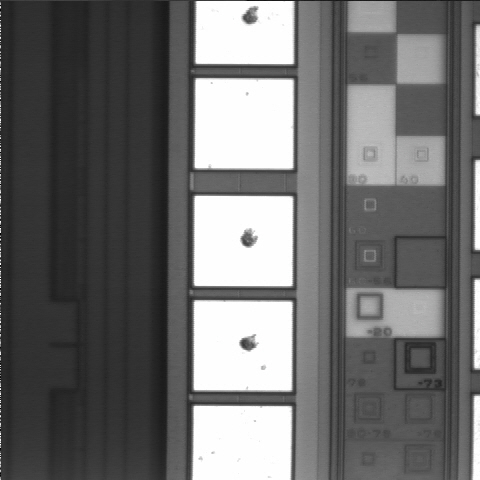pad: (195, 78, 293, 169), (194, 300, 292, 391), (194, 196, 293, 286)
